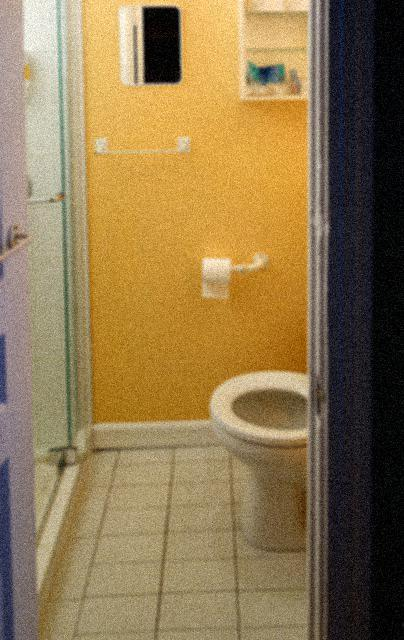Ducha: (0, 14, 80, 618)
Sanitario: (204, 353, 403, 559)
